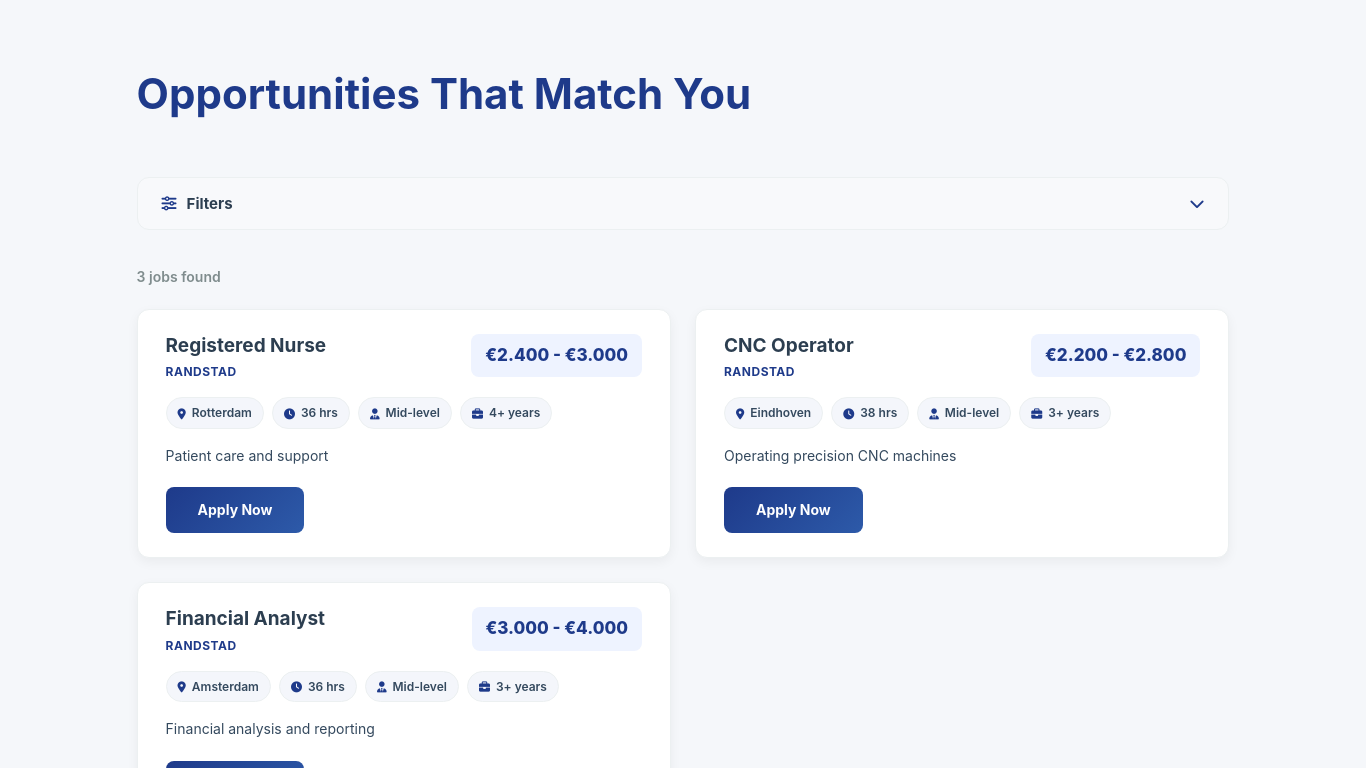
Test: Jobs page › filters by search term
Expected: the heading "Registered Nurse" is shown, 166,334 -> 326,358
Click the button "Filters" at (210, 204), box 137,177 -> 1229,230
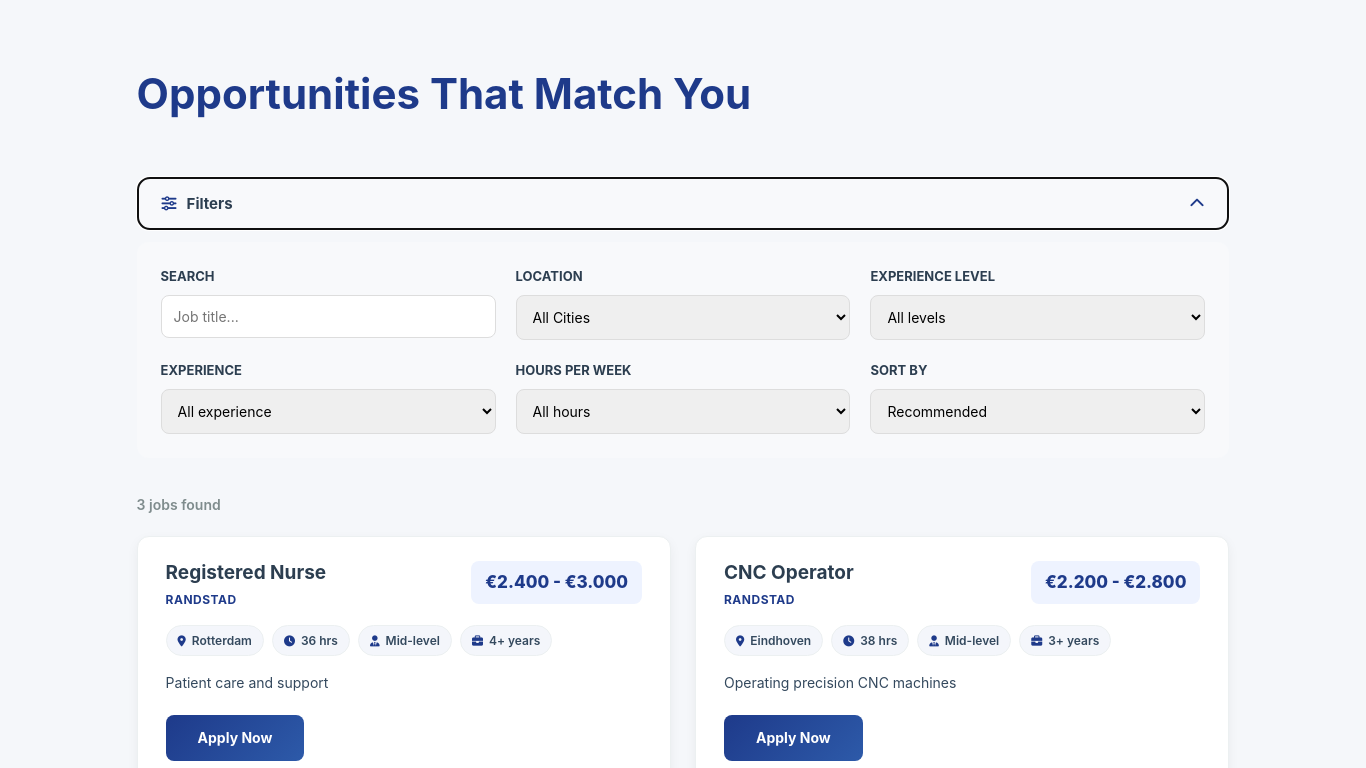
Type "nurse" into the field labelled "Search" at (328, 316), box 161,295 -> 496,338
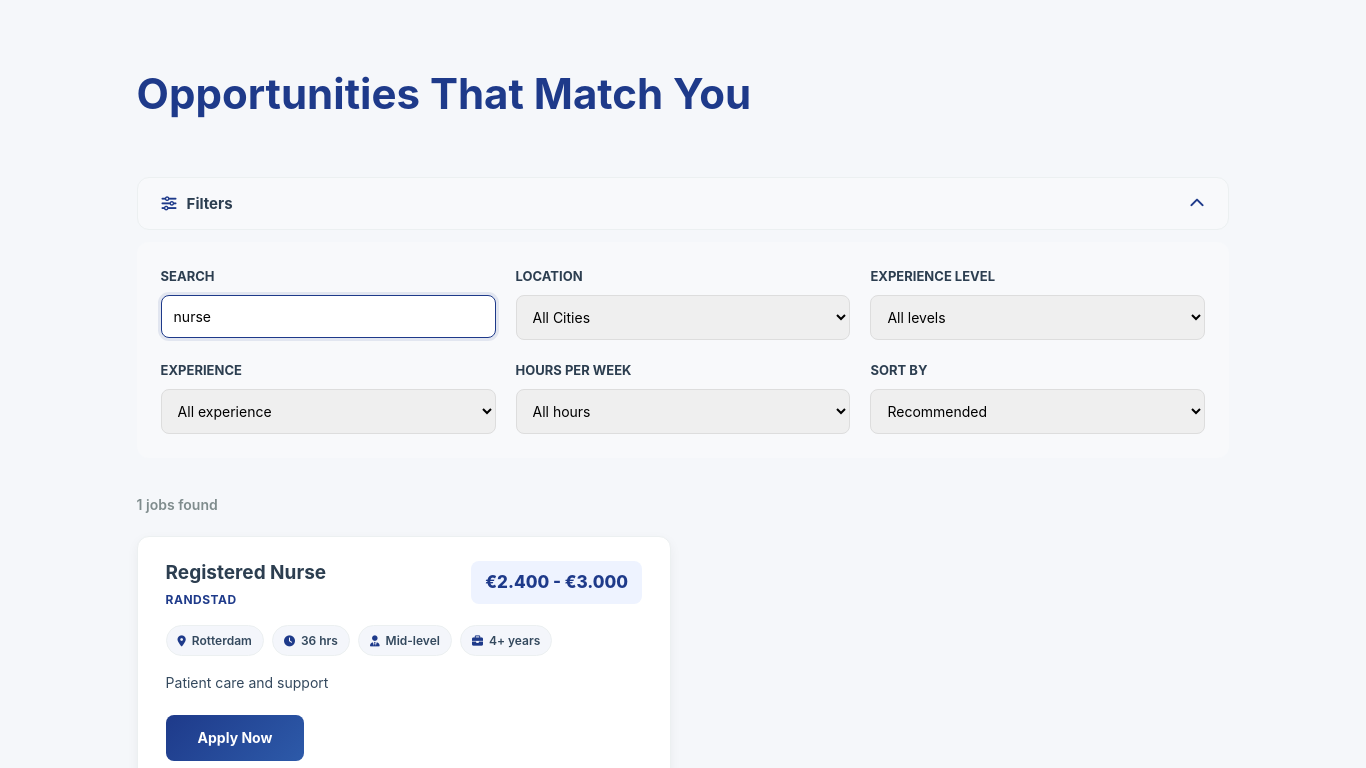
Expected: the heading "Registered Nurse" is shown, 166,561 -> 326,586
Result: the heading "CNC Operator" is gone
